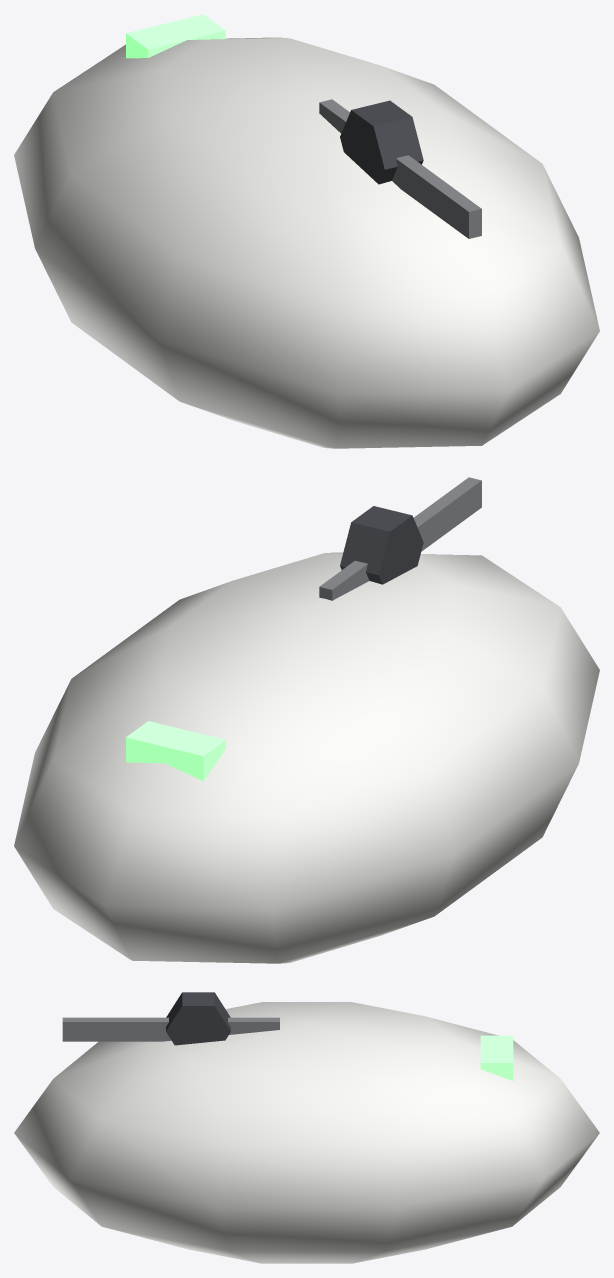
File: mouse.glb
3 renders of one model, top to bottom at view 1: azimuth 30°, elevation 25°; view 2: azimuth 150°, elevation 25°; view 3: azimuth 270°, elevation 25°, orthographic. The views are drawn at different scales.
Visible parts, largest first — view 1: mouse, mouse_led; view 2: mouse, mouse_led; view 3: mouse, mouse_led.
Part boxes in pixels (x1,y1,x2,y2): mouse: (14,37,599,448); mouse_led: (126,14,225,58); mouse: (14,477,599,963); mouse_led: (126,721,225,781); mouse: (14,992,599,1263); mouse_led: (480,1035,513,1080).
Size of the model in its own units: 0.0647 by 0.0492 by 0.108.
Materials: 2 (1 with a texture image).
